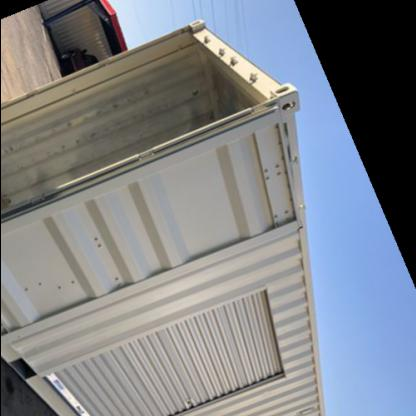Damage: (260, 127, 298, 240)
